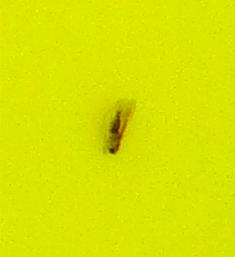Hemiptera: (100, 100, 135, 157)
